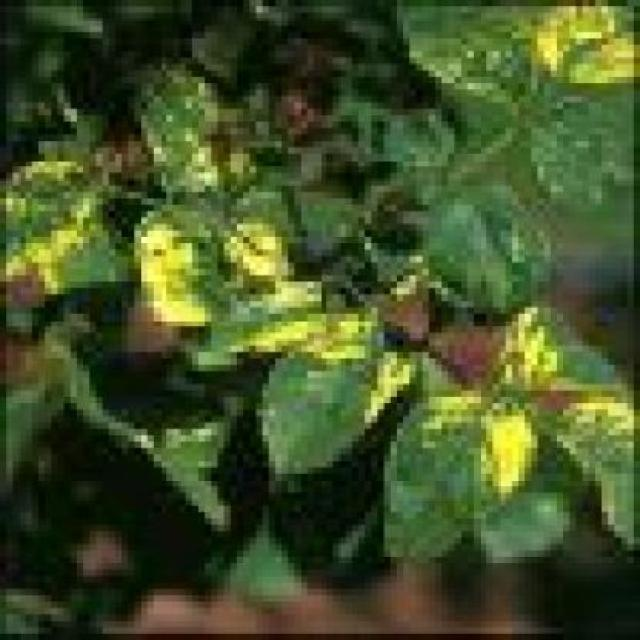Healthy Leaf: (262, 326, 416, 480), (384, 396, 519, 570), (422, 179, 550, 313), (384, 7, 538, 108), (518, 90, 628, 218), (122, 71, 230, 198), (358, 115, 460, 173)
